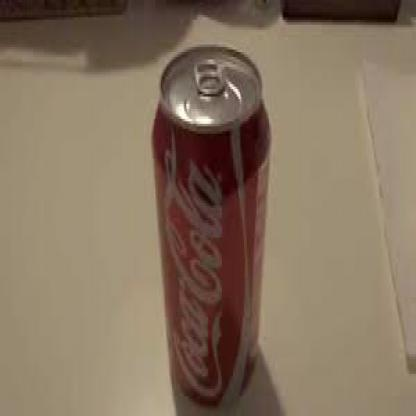METAL: (150, 42, 270, 404)
